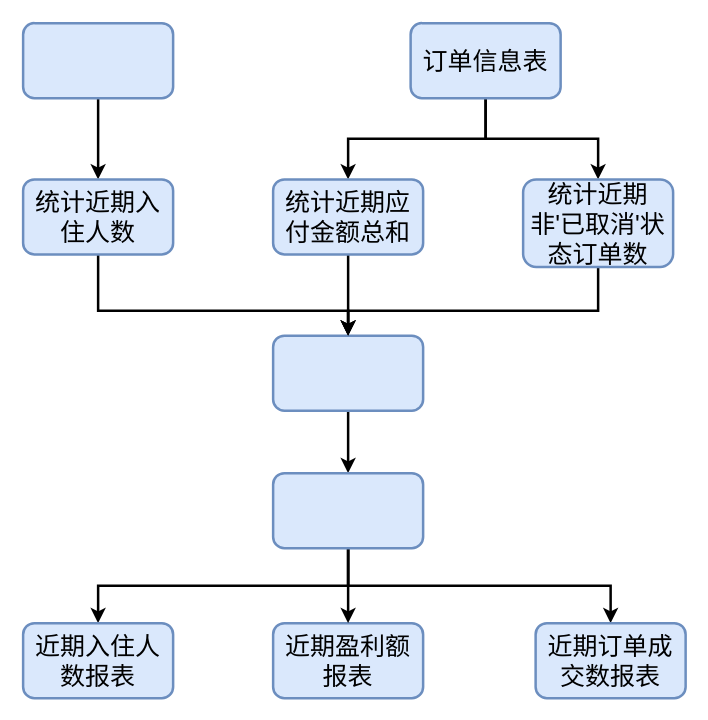
The diagram is 708 pixels wide and 720 high, and some of its shapes have lost their labels. The centre of each missing label's shape, as x and y in pixels:
导出报表: pixel 347 510
数据可视化: pixel 347 372
用户信息表: pixel 97 60
